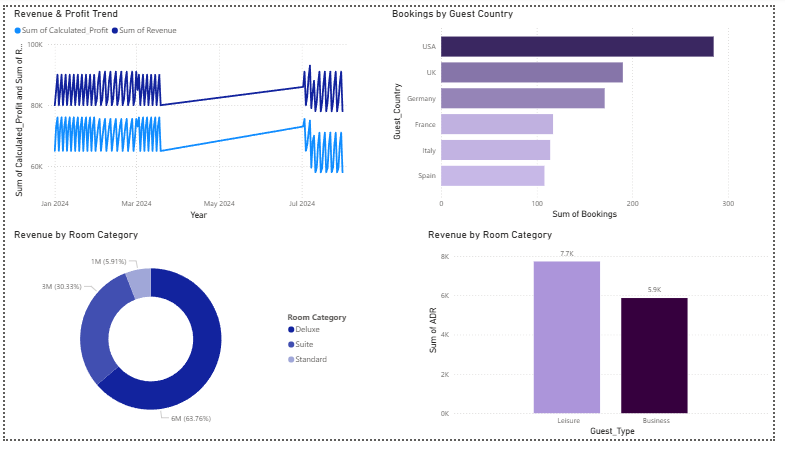

The dashboard page shown, as its layout file describes it:
{"tool":"powerbi","page":{"name":"Page 1","canvas":[1280,720],"ordinal":0},"visuals":[{"type":"lineChart","title":"Revenue & Profit Trend","fields":{"Category":["Dim_Date.Date.Variation.Date Hierarchy.Year","Dim_Date.Date.Variation.Date Hierarchy.Quarter","Dim_Date.Date.Variation.Date Hierarchy.Month","Dim_Date.Date.Variation.Date Hierarchy.Day"],"Y":["Sum(Fact_Bookings.Calculated_Profit)","Sum(Fact_Bookings.Revenue)"]},"box":[10.1,0,579.5,359.5],"z":0},{"type":"donutChart","title":"Revenue by Room Category","fields":{"Category":["Dim_Room.Room Category"],"Y":["Sum(Fact_Bookings.Revenue)"]},"box":[10,369,580,351],"z":1},{"type":"clusteredBarChart","title":"Bookings by Guest Country","fields":{"Y":["Sum(Fact_Bookings.Bookings)"],"Category":["Dim_Customer.Guest_Country"]},"box":[640,0,580,358.3],"z":2},{"type":"columnChart","title":"Revenue by Room Category","fields":{"Category":["Dim_Customer.Guest_Type"],"Y":["Sum(Fact_Bookings.ADR)"]},"box":[700,368.3,580,351.7],"z":3}]}

Visuals, with their boxes in screenshot pixels (x1, y1, x2, y2), scaled from the page's 1280x720 canvas onto the 785x449 screenshot:
"Revenue & Profit Trend" lineChart: BBox(6, 0, 362, 224)
"Revenue by Room Category" donutChart: BBox(6, 230, 362, 448)
"Bookings by Guest Country" clusteredBarChart: BBox(392, 0, 748, 223)
"Revenue by Room Category" columnChart: BBox(429, 230, 784, 448)
